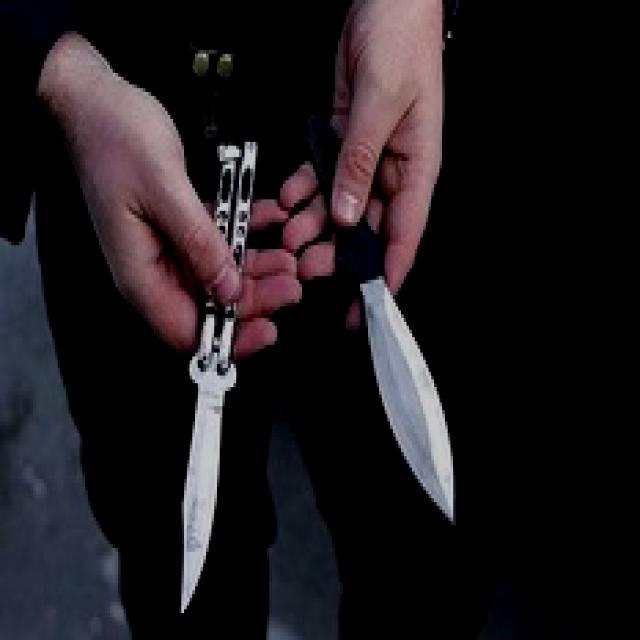knife: (299, 104, 459, 532), (160, 122, 258, 620)
